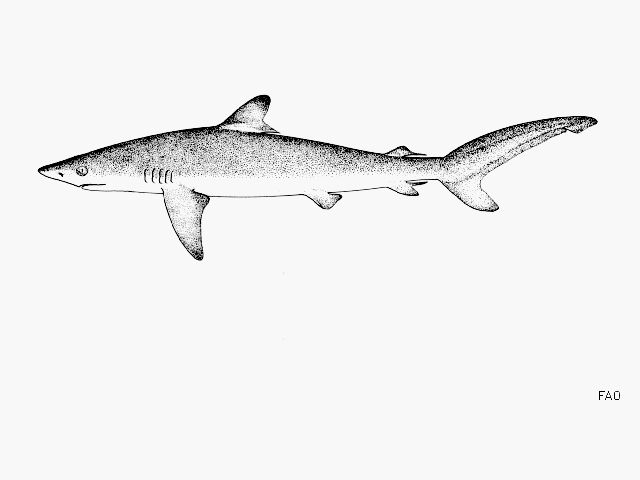fish: (39, 95, 602, 262)
